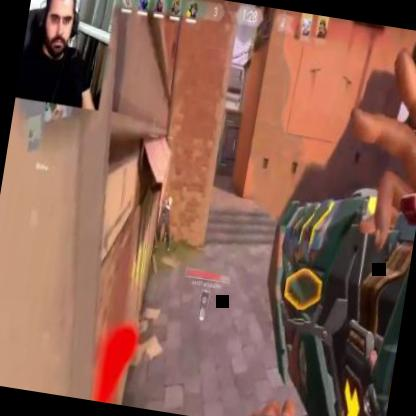enemy: (152, 186, 179, 254)
enemy_head: (162, 190, 169, 201)
